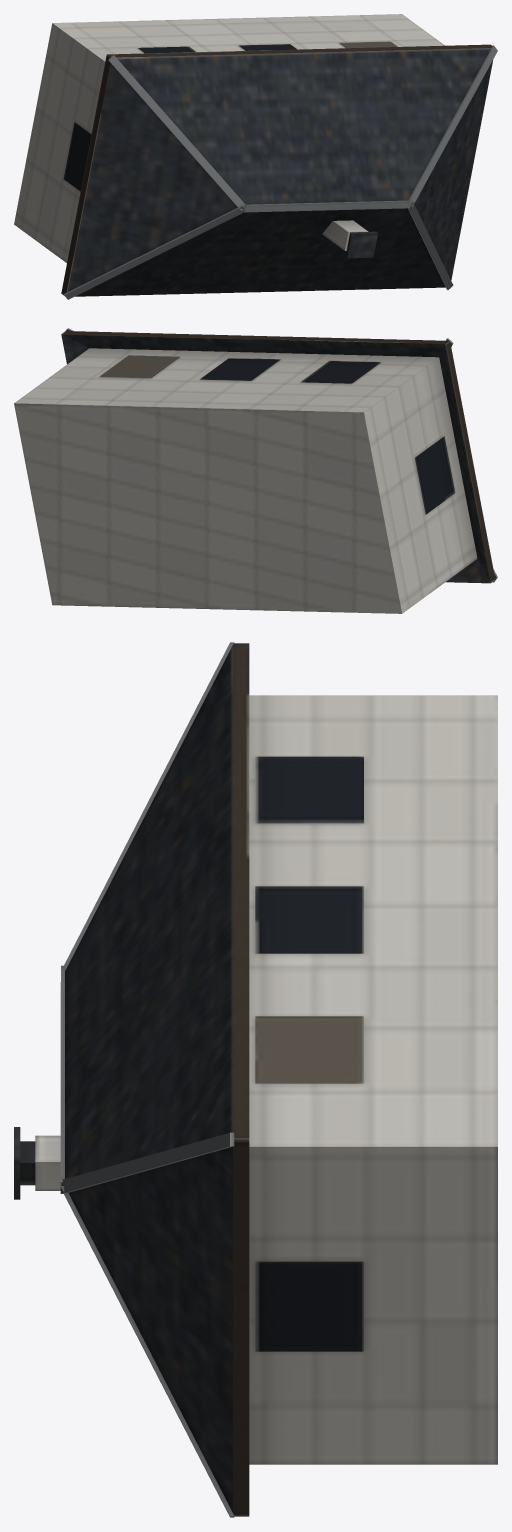
Rendered from house_b0345.obj.
The picture shows the model from 3 angles, top to bottom: view 1: azimuth 30°, elevation 25°; view 2: azimuth 150°, elevation 25°; view 3: azimuth 270°, elevation 25°; orthographic projection. The views are drawn at different scales.
Parts seen in each view (by area): view 1: house_b0345; view 2: house_b0345; view 3: house_b0345.
Part boxes in pixels (x1,y1,x2,y2): house_b0345: (14,14,497,299); house_b0345: (14,328,497,613); house_b0345: (14,642,497,1517).
Bounding box in the file's own units: 13.24 × 9.23 × 7.01.
1 material, 1 textured.
